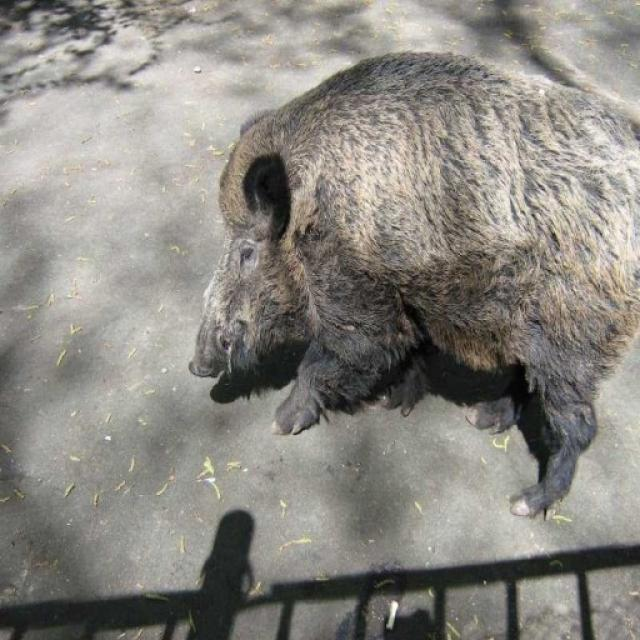pig: (148, 25, 640, 481)
